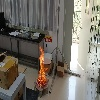fire: (37, 46, 47, 87)
